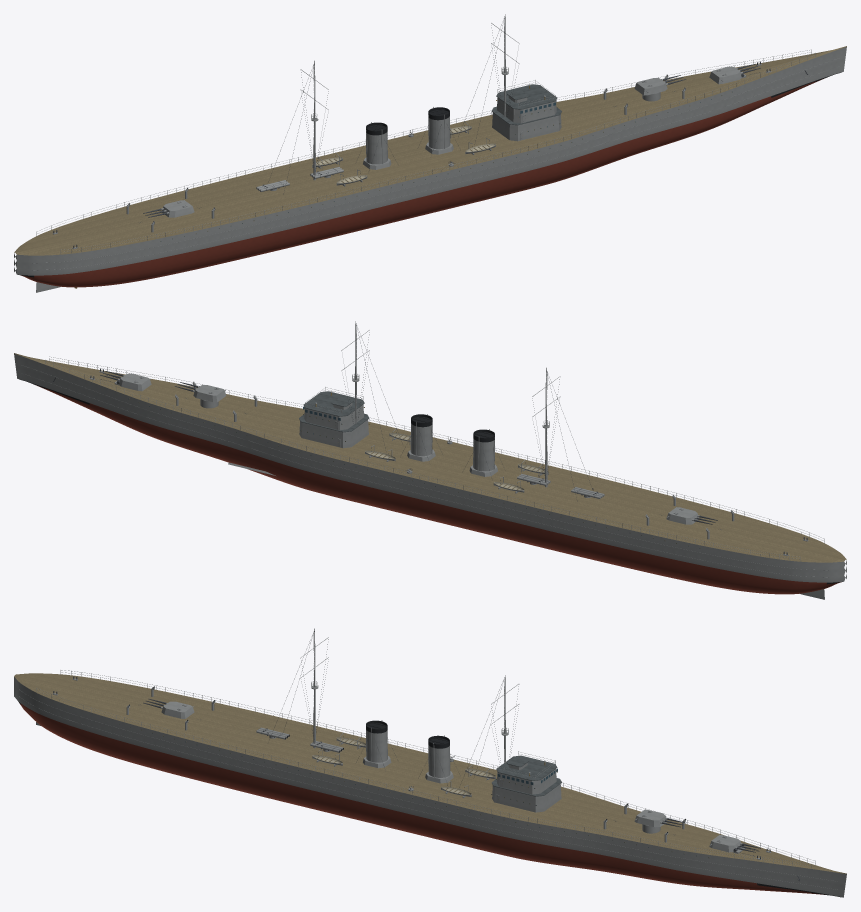
File: ocean_cl29.glb
3 views of the same model, one above another, from view 1: azimuth 30°, elevation 25°; view 2: azimuth 150°, elevation 25°; view 3: azimuth 330°, elevation 25° (orthographic).
Parts seen in each view (by area): view 1: Kirov ocean cruiser; view 2: Kirov ocean cruiser; view 3: Kirov ocean cruiser.
Part boxes in pixels (x1=…): Kirov ocean cruiser: x1=14, y1=14, x2=846, y2=292; Kirov ocean cruiser: x1=14, y1=321, x2=846, y2=599; Kirov ocean cruiser: x1=14, y1=628, x2=846, y2=897.
Size of the model in its own units: 190 by 36.29 by 18.59.
Materials: 9 (8 with a texture image).
